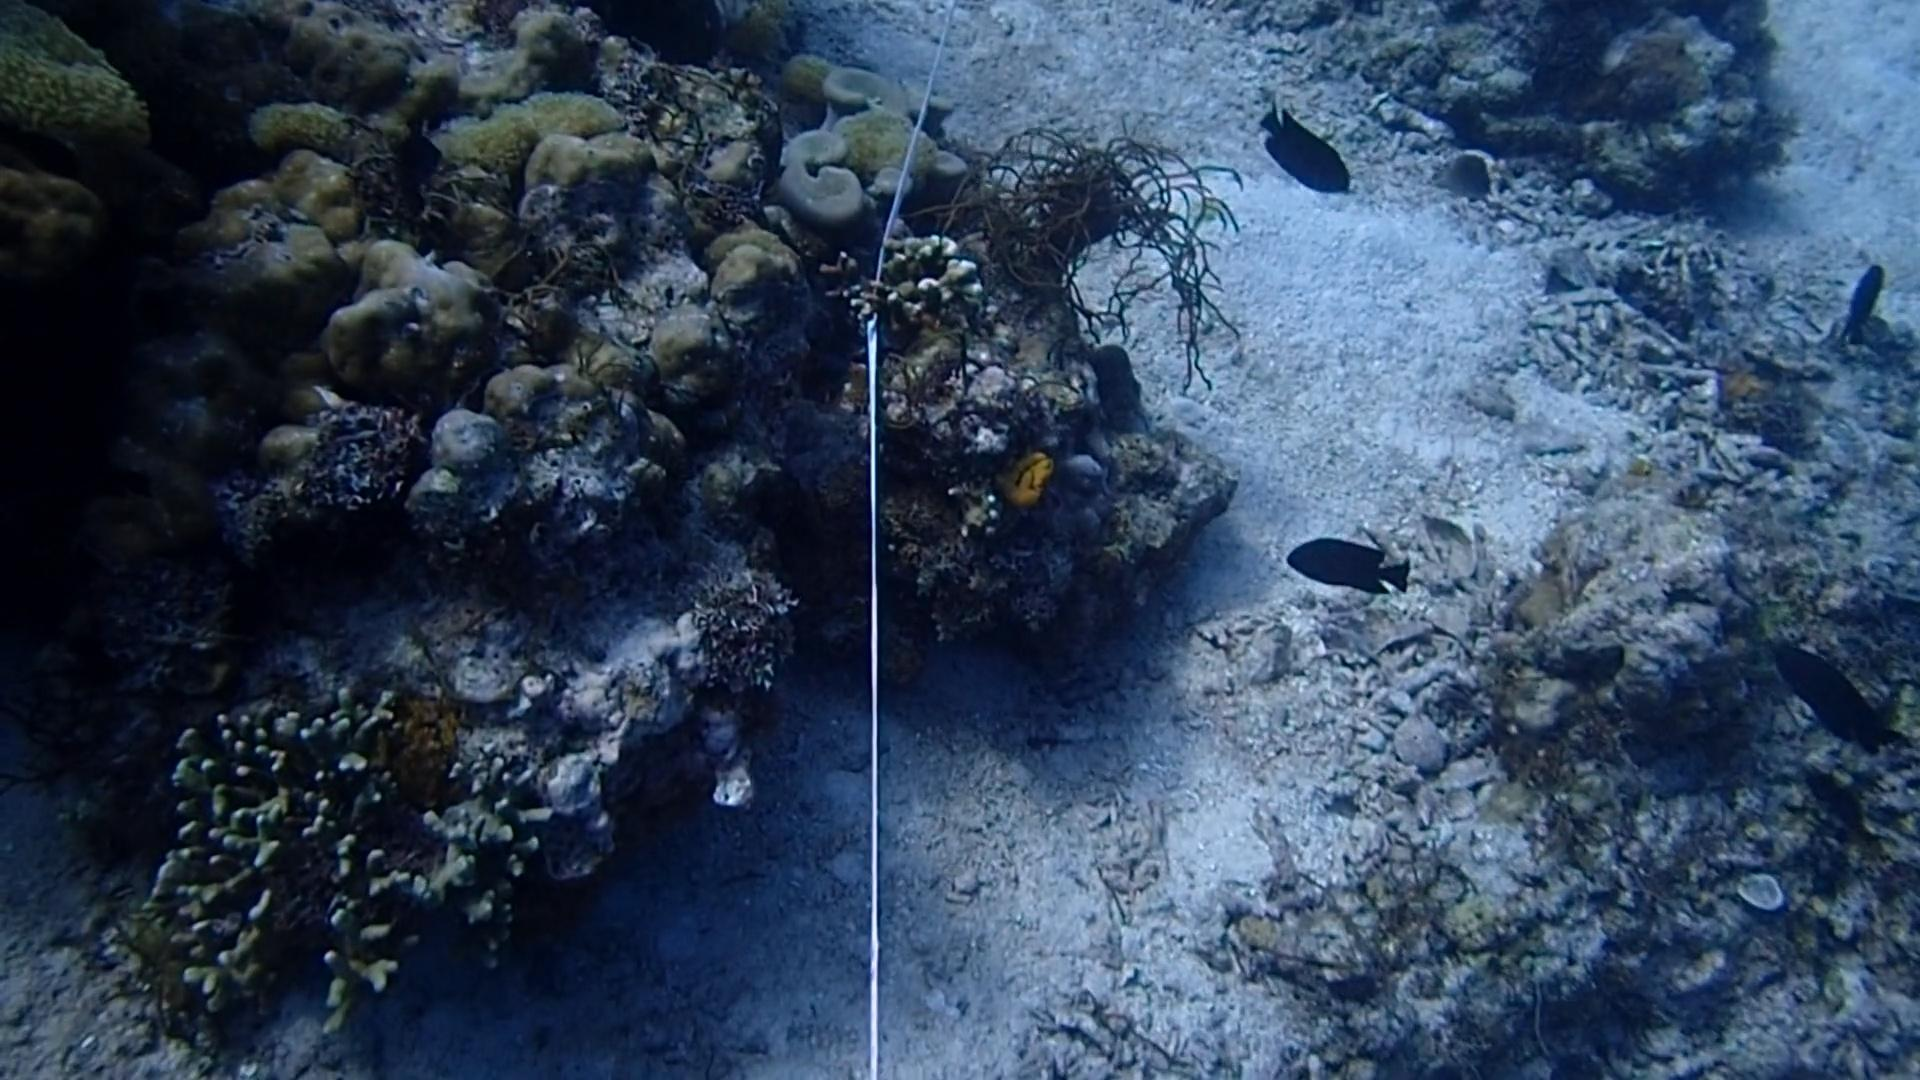Dark Fish: (1739, 625, 1911, 758), (1776, 735, 1896, 853), (1275, 512, 1410, 607), (1249, 90, 1358, 206), (1815, 239, 1896, 347)
Light Fish: (1427, 144, 1506, 211)
